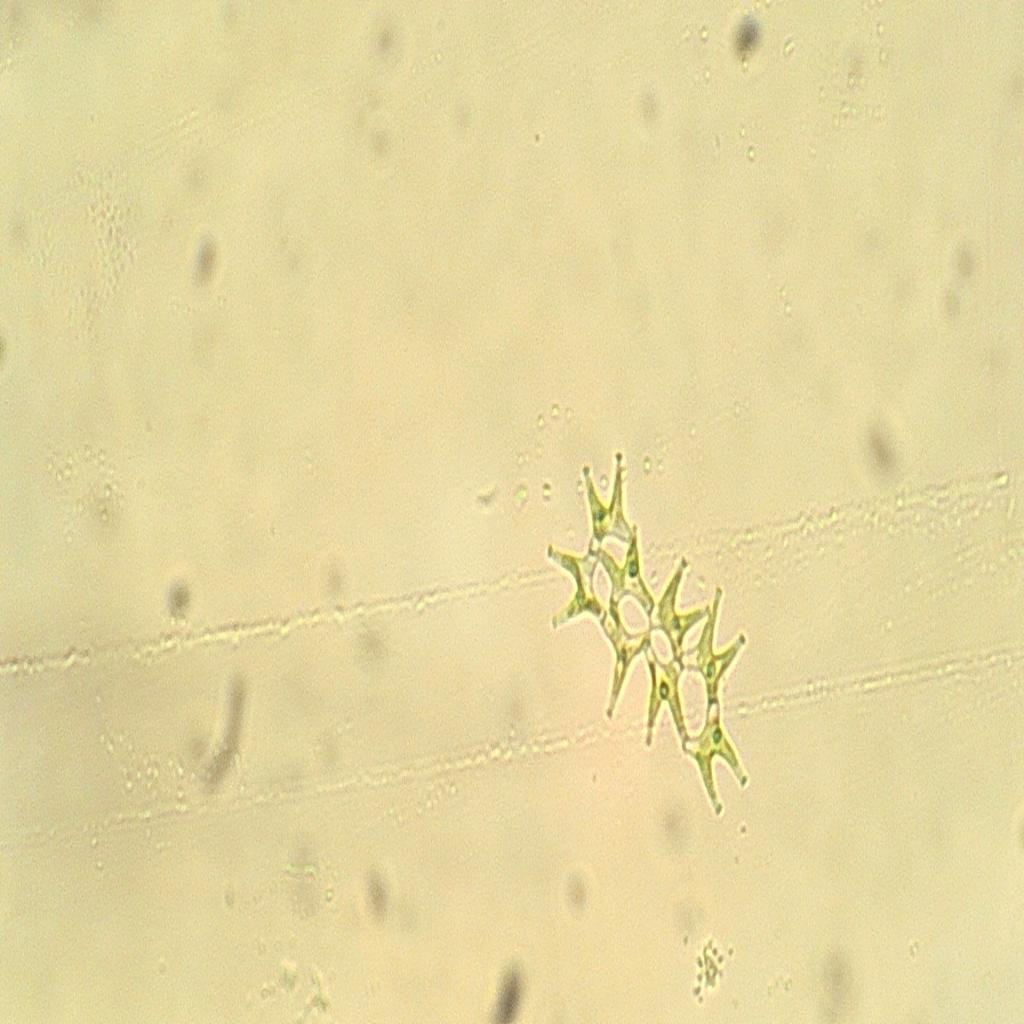Pediastrum_1TH: (535, 437, 762, 834)
